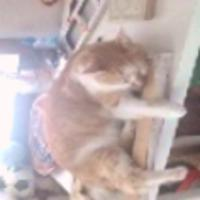asleep: (37, 21, 200, 195)
